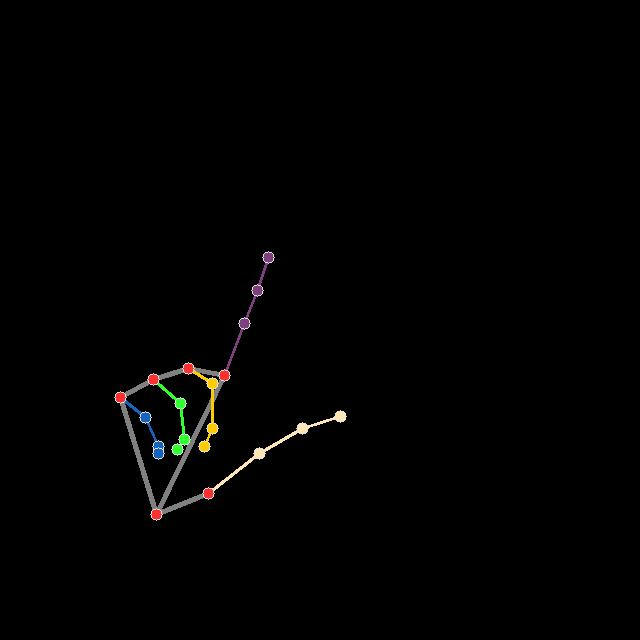gun: (107, 248, 354, 523)
